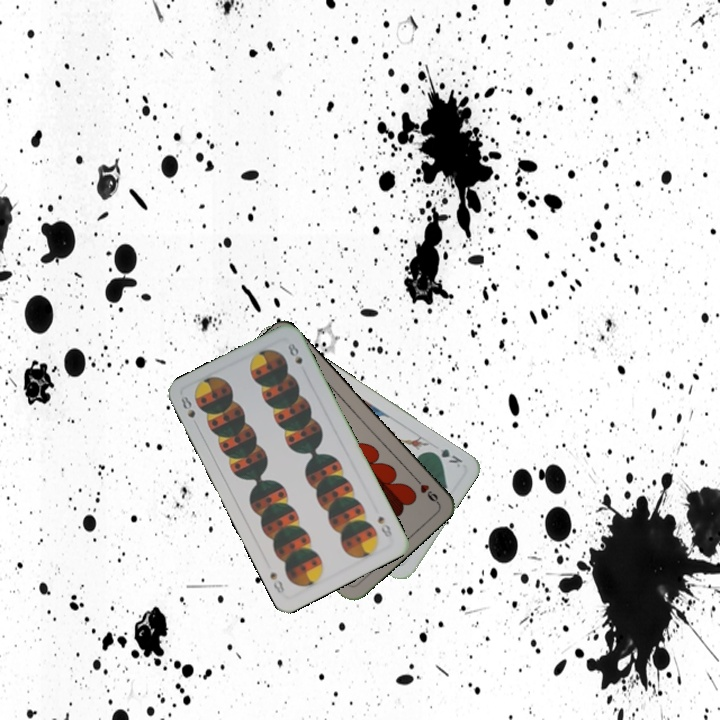GK: (427, 444, 465, 470)
H9: (410, 473, 441, 506)
S8: (177, 392, 198, 421), (374, 512, 395, 540)
